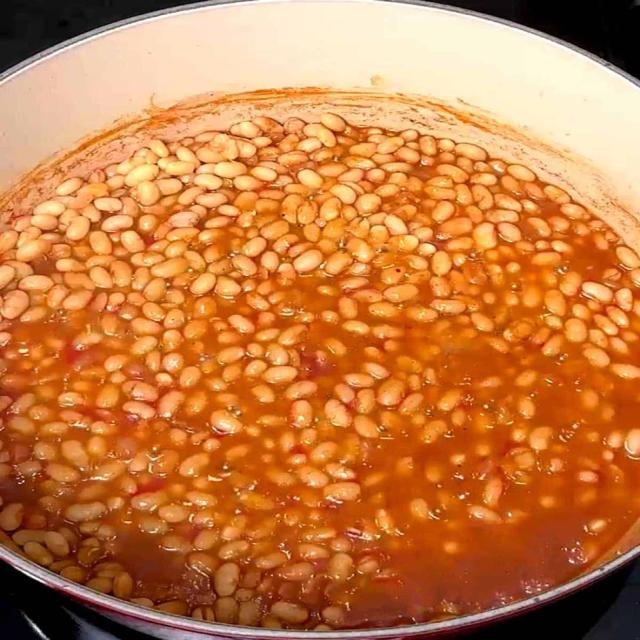beans: (0, 114, 639, 630), (214, 563, 239, 596), (65, 502, 106, 522), (271, 601, 308, 623), (210, 410, 242, 433), (179, 453, 210, 476), (294, 250, 324, 273), (582, 282, 613, 304), (0, 503, 24, 531), (44, 532, 70, 557), (324, 483, 360, 501), (384, 284, 418, 303), (611, 364, 639, 379)
